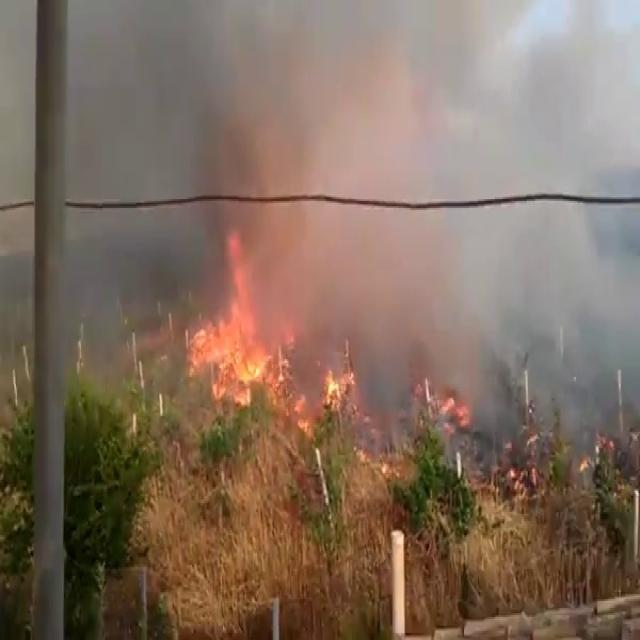Fire: (183, 248, 280, 413)
Smoke: (56, 0, 640, 476)
